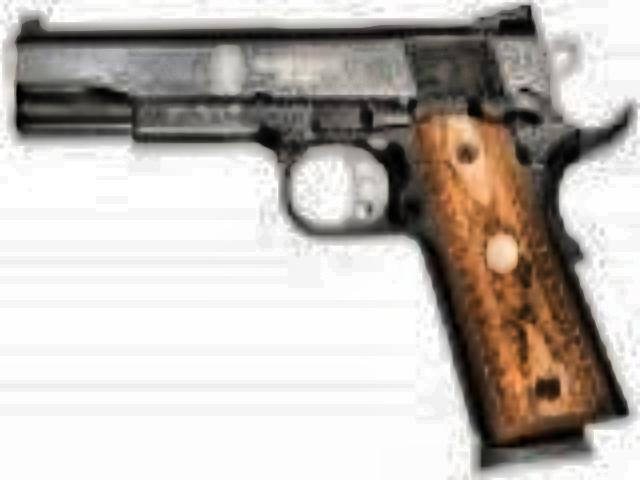pistol: (4, 8, 620, 464)
